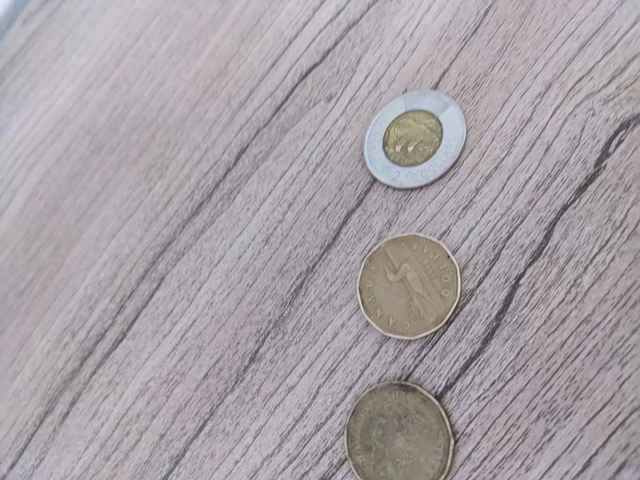loonie: (350, 224, 466, 346), (332, 373, 467, 474)
twonie: (360, 76, 467, 190)
